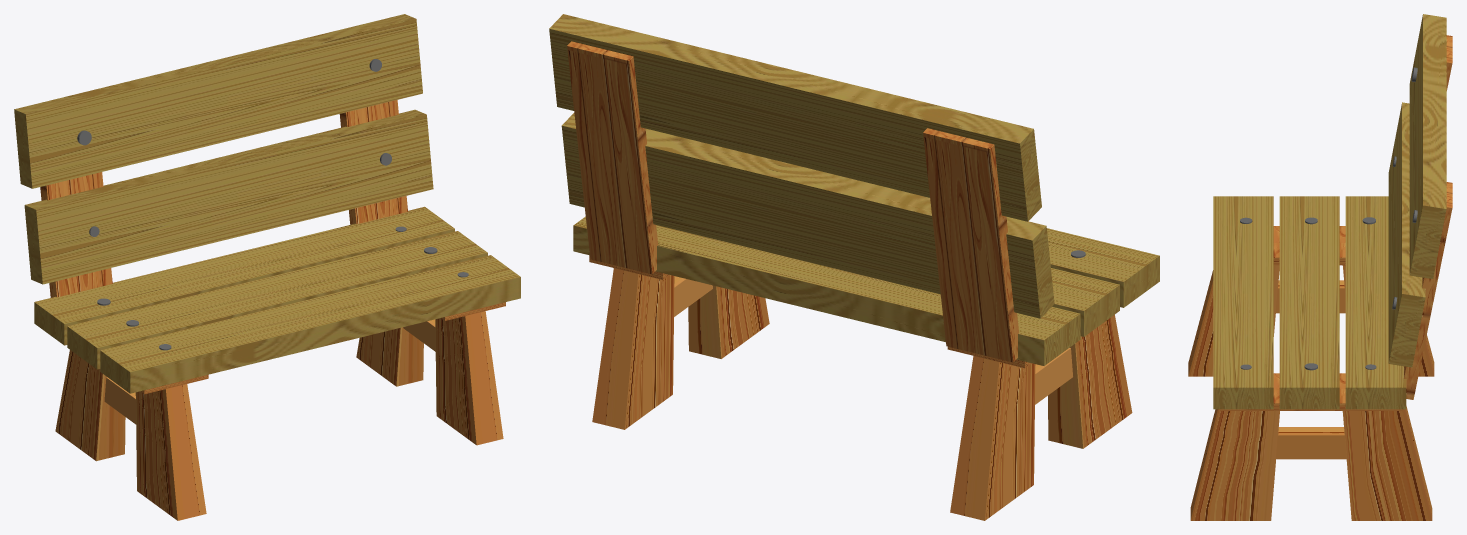
Rendered from banco.fbx.
3 renders of one model, left to right at view 1: azimuth 30°, elevation 25°; view 2: azimuth 150°, elevation 25°; view 3: azimuth 270°, elevation 25°, orthographic. The views are drawn at different scales.
Visible parts, largest first — view 1: Cylinder.007; view 2: Cylinder.007; view 3: Cylinder.007.
Part boxes in pixels (x1=…): Cylinder.007: x1=14, y1=14, x2=520, y2=520; Cylinder.007: x1=549, y1=14, x2=1159, y2=520; Cylinder.007: x1=1188, y1=14, x2=1452, y2=520.
Size of the model in its own units: 200 by 161 by 117.
Materials: 3 (2 with a texture image).
